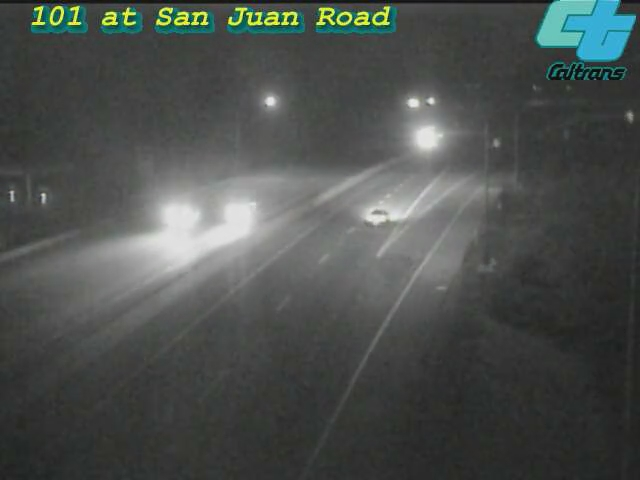vehicle: (143, 178, 223, 258), (197, 173, 277, 253), (338, 175, 418, 255), (399, 113, 449, 163)
